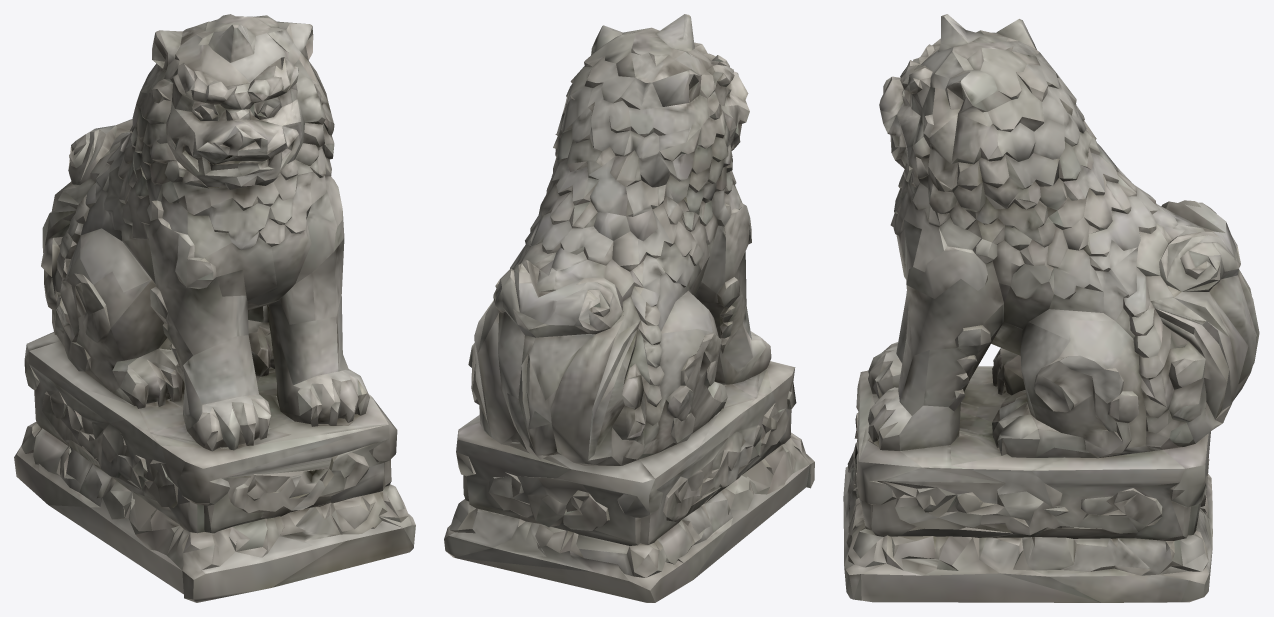
Rendered from haetae.glb.
3 views of the same model, side by side, from view 1: azimuth 30°, elevation 25°; view 2: azimuth 150°, elevation 25°; view 3: azimuth 270°, elevation 25° (orthographic). The views are drawn at different scales.
Size of the model in its own units: 0.8931 by 1.9 by 1.36.
Materials: 1 (1 with a texture image).
